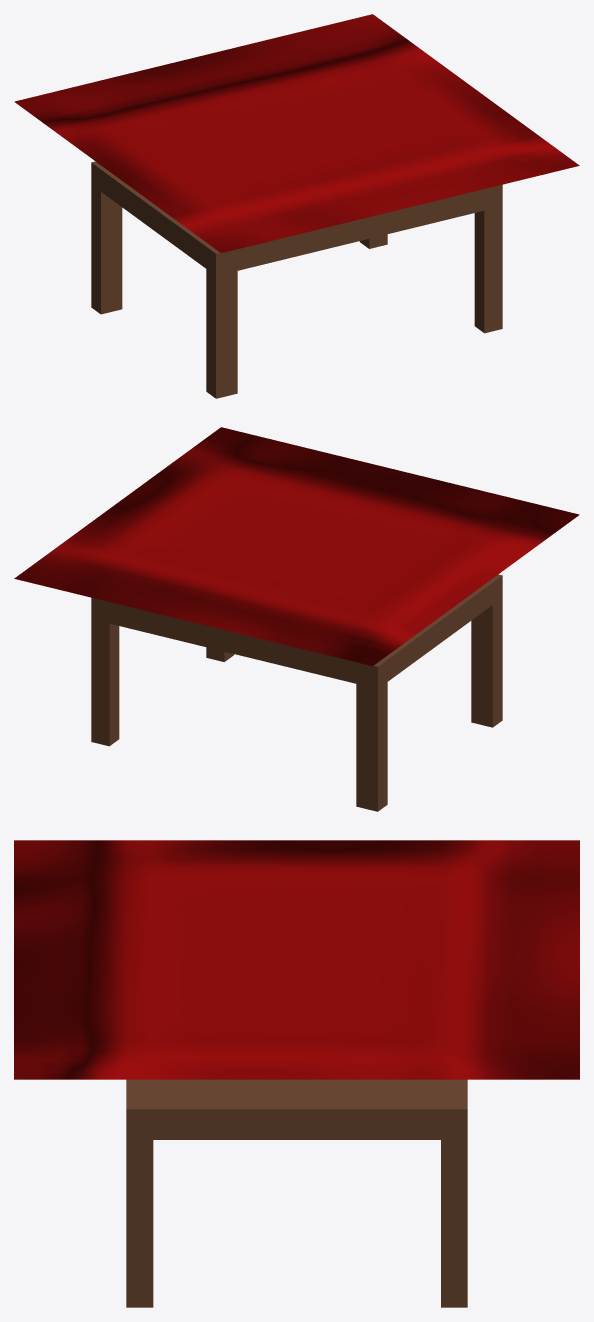
Rendered from TableFBX.fbx.
3 views of the same model, one above another, from view 1: azimuth 30°, elevation 25°; view 2: azimuth 150°, elevation 25°; view 3: azimuth 270°, elevation 25° (orthographic). The views are drawn at different scales.
Parts seen in each view (by area): view 1: pPlane1, pCube1; view 2: pPlane1, pCube1; view 3: pPlane1, pCube1.
Boxes of the visible parts, box(x1,y1,x2,y2) form: pPlane1: box(14, 14, 579, 253); pCube1: box(91, 161, 502, 398); pPlane1: box(14, 427, 579, 666); pCube1: box(91, 574, 502, 811); pPlane1: box(14, 840, 579, 1079); pCube1: box(126, 1079, 467, 1307).
Bounding box in the file's own units: 12.56 × 6.17 × 12.56.
